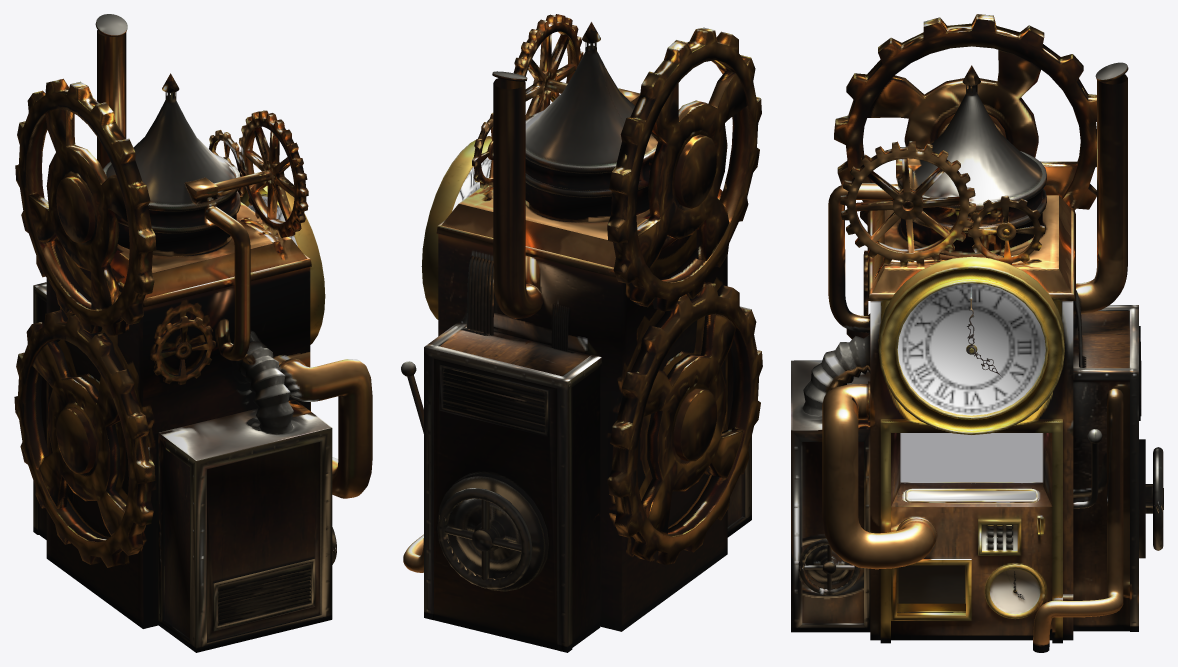
The model's file is GO_DM_Timemachine.gltf.
3 views of the same model, side by side, from view 1: azimuth 30°, elevation 25°; view 2: azimuth 150°, elevation 25°; view 3: azimuth 270°, elevation 25° (orthographic). The views are drawn at different scales.
Parts seen in each view (by area): view 1: TimeMachine_SM.002; view 2: TimeMachine_SM.002; view 3: TimeMachine_SM.002.
Boxes of the visible parts, x1,y1,x2,y2 form: TimeMachine_SM.002: (14,14,372,652); TimeMachine_SM.002: (401,14,762,652); TimeMachine_SM.002: (791,14,1163,652).
Bounding box in the file's own units: 0.9626 × 1.99 × 1.25.
Materials: 1 (1 with a texture image).
